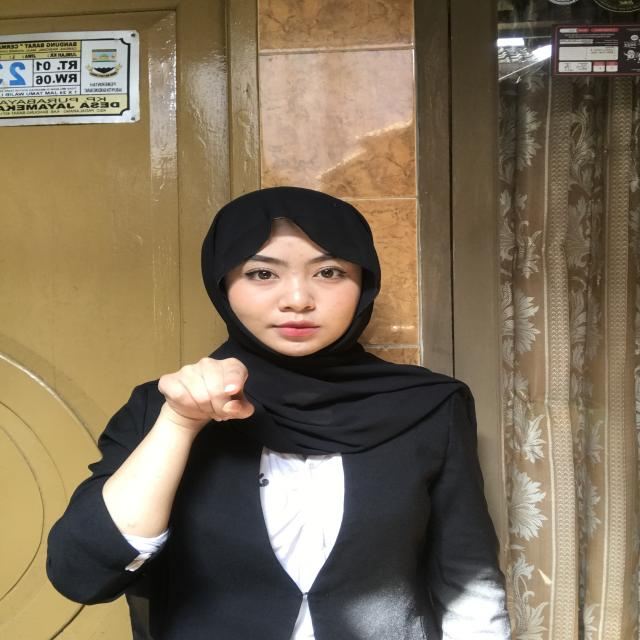kamu: (137, 351, 269, 431)
